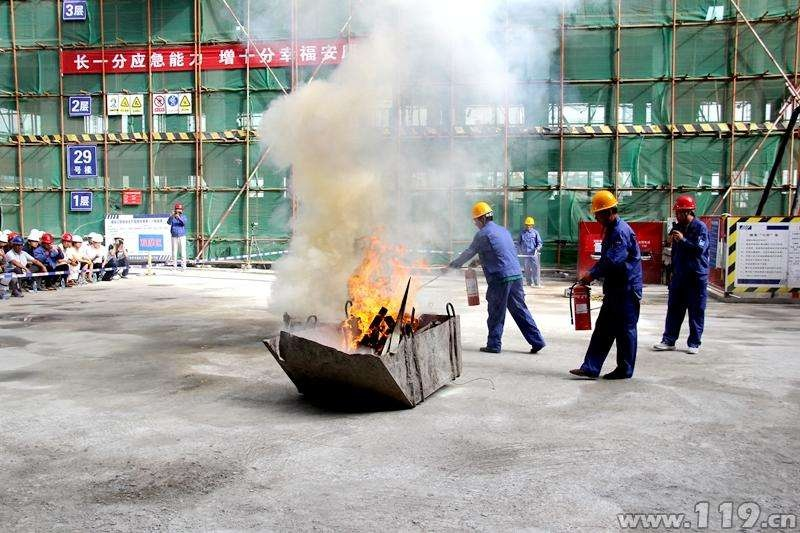red: (670, 194, 696, 223)
yellow: (591, 189, 619, 223), (471, 201, 494, 231), (524, 214, 534, 231)
